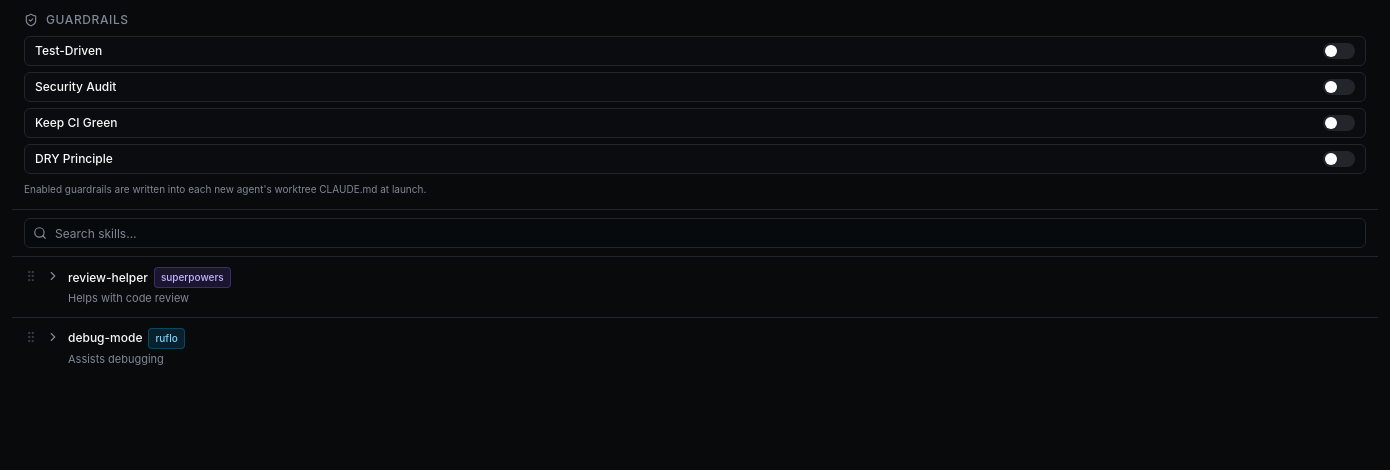
Test: SkillsTab Phase 3 — provider compat badges › shows only claude badge for debug-mode (only claude enabled)
Expected: the text "debug-mode" is shown, [68,330,142,346]
Click the button "debug-mode ruflo Assists debugging". click: coordinates (105, 338)
box: [12,318,1378,377]
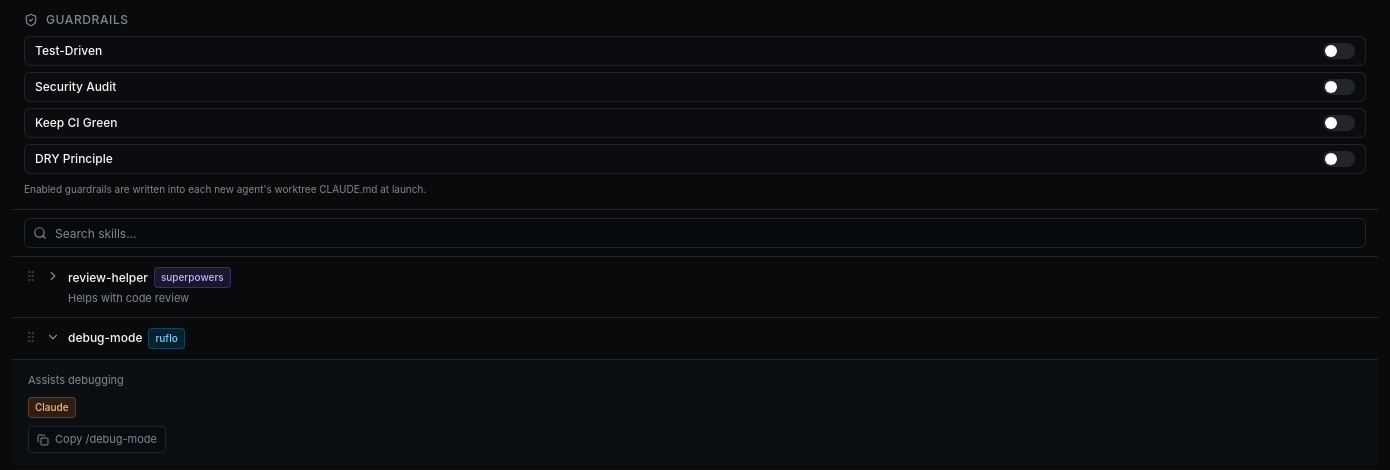
Now the text "Claude" is shown, box [28,397,76,418]
